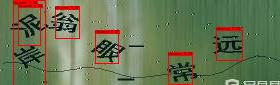chinese: (93, 35, 126, 67), (11, 8, 45, 39), (212, 30, 248, 58), (49, 10, 81, 37), (13, 48, 49, 71), (167, 64, 203, 83)
